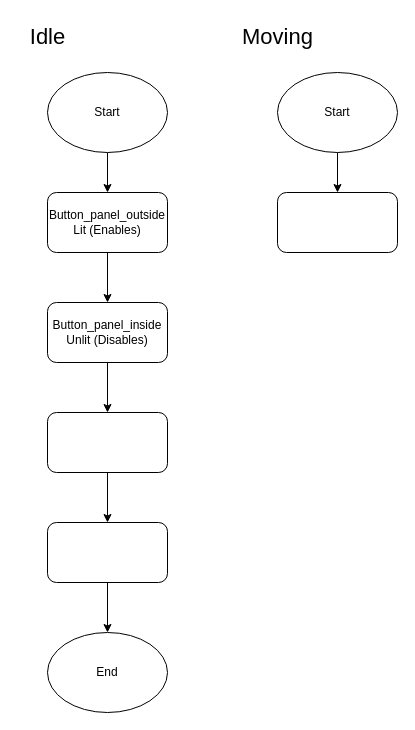
Some shapes in this 415 by 730 pixel diagram are drawn without their labels. The shapes that lost their labels are listed below. From the top down, each one's centre as x and y in pixels, then its label:
(x=107, y=442): Display_outside (Display curr_level)
(x=107, y=552): Display_inside (Disable)
